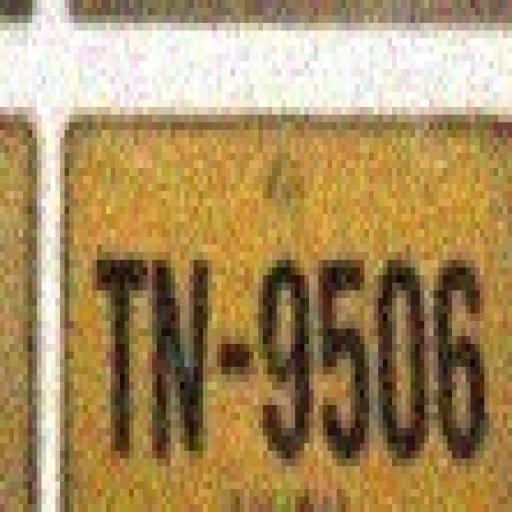0: (377, 276, 431, 472)
5: (321, 246, 371, 460)
6: (428, 255, 490, 458)
9: (259, 259, 312, 461)
N: (152, 252, 212, 468)
T: (94, 259, 143, 454)
